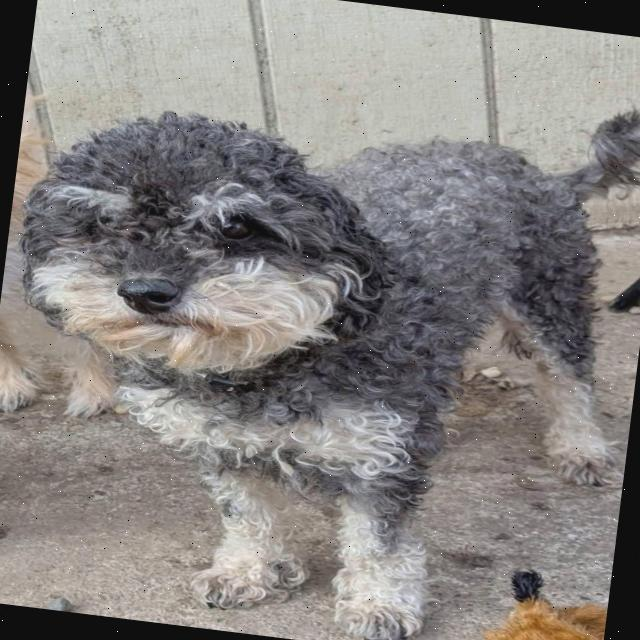Poodle_dog: (0, 88, 431, 428)
